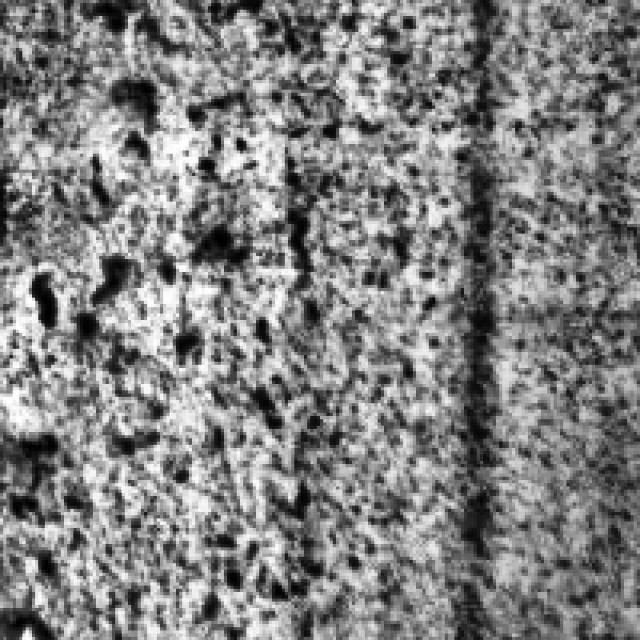Rolled_in_Scale: (70, 0, 554, 611)
